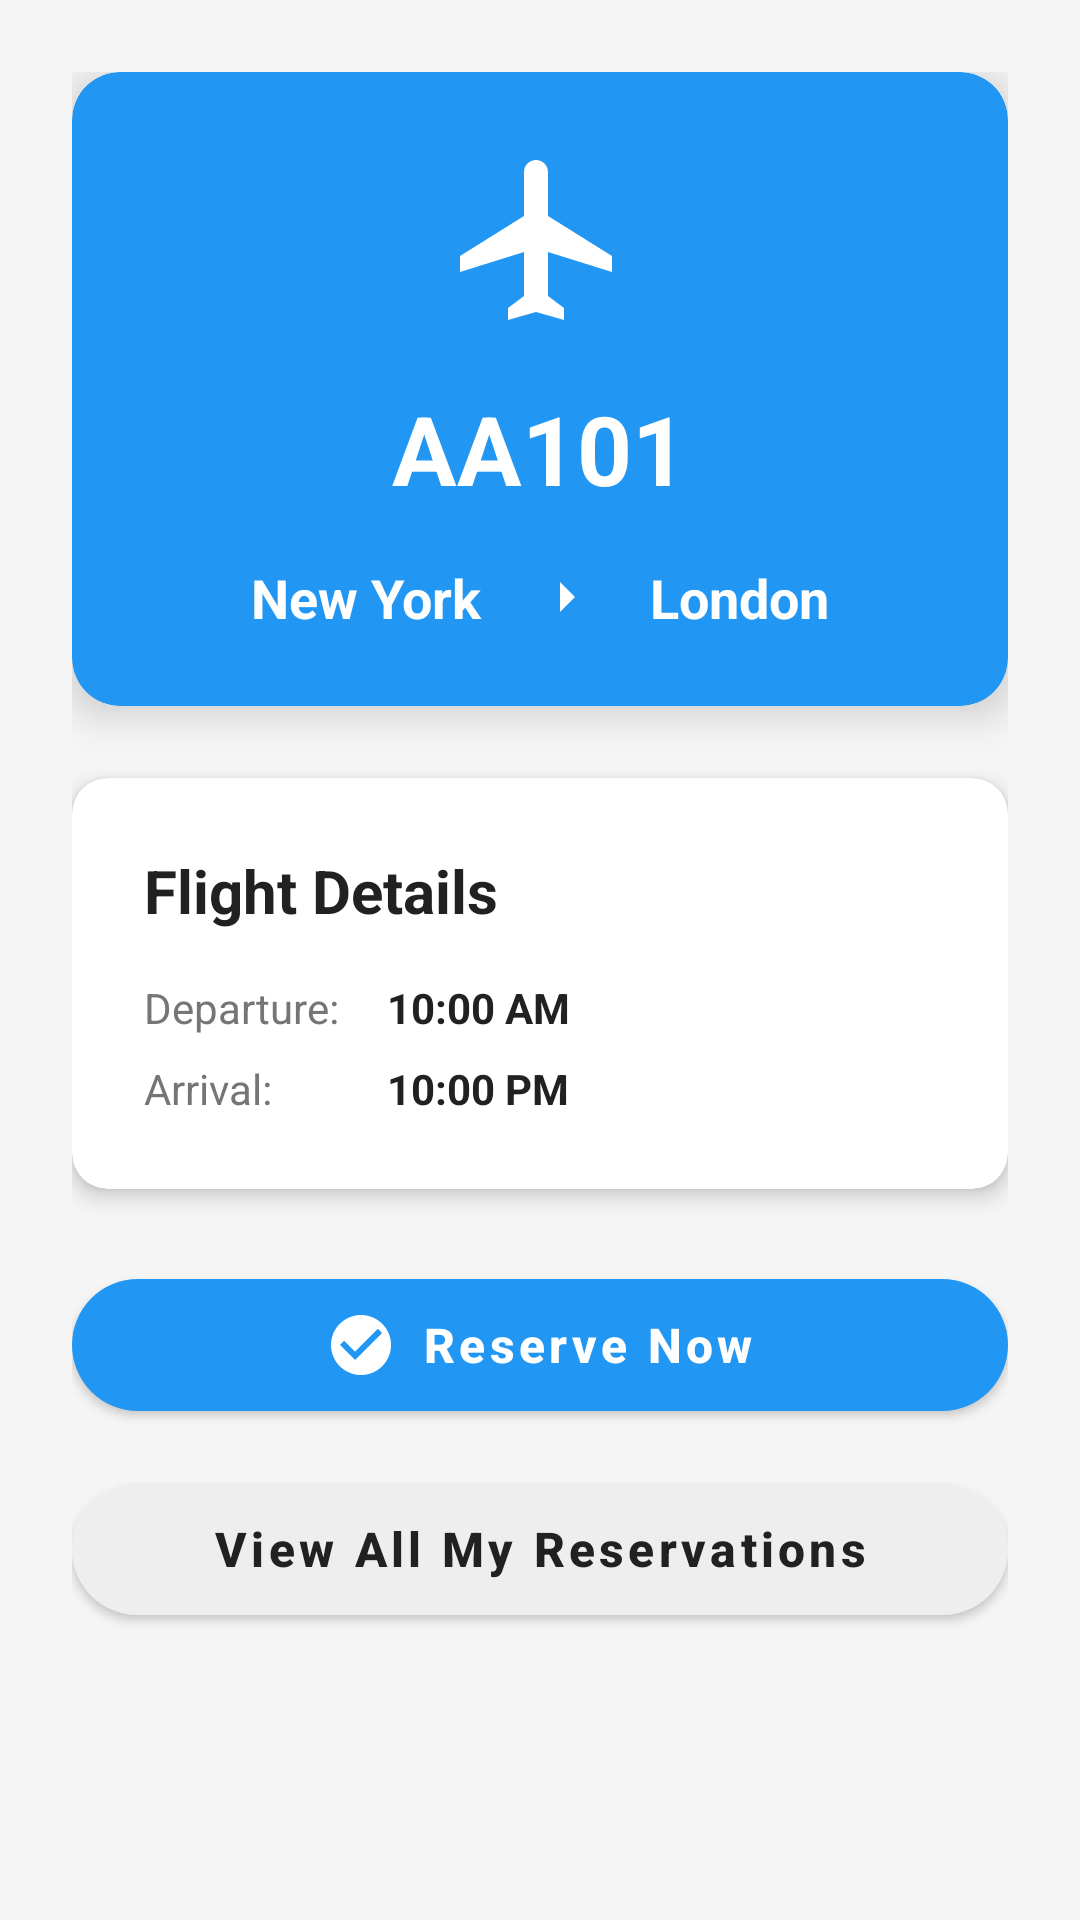

Screen size 1080×1920. Icon name, then its center in pixels as (x,y):
arrow right: (567,597)
